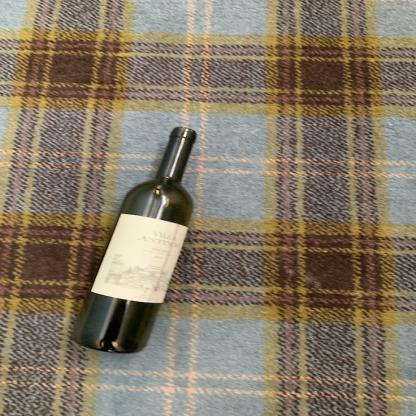trash: (71, 116, 206, 354)
